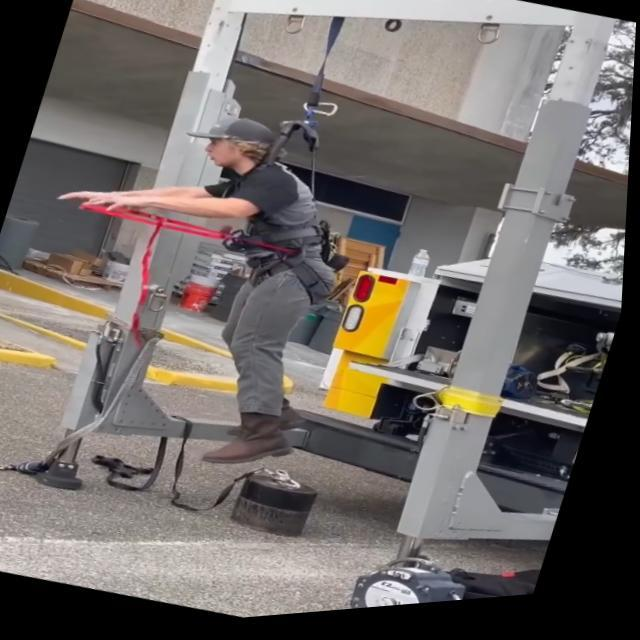belt: (190, 96, 401, 341)
